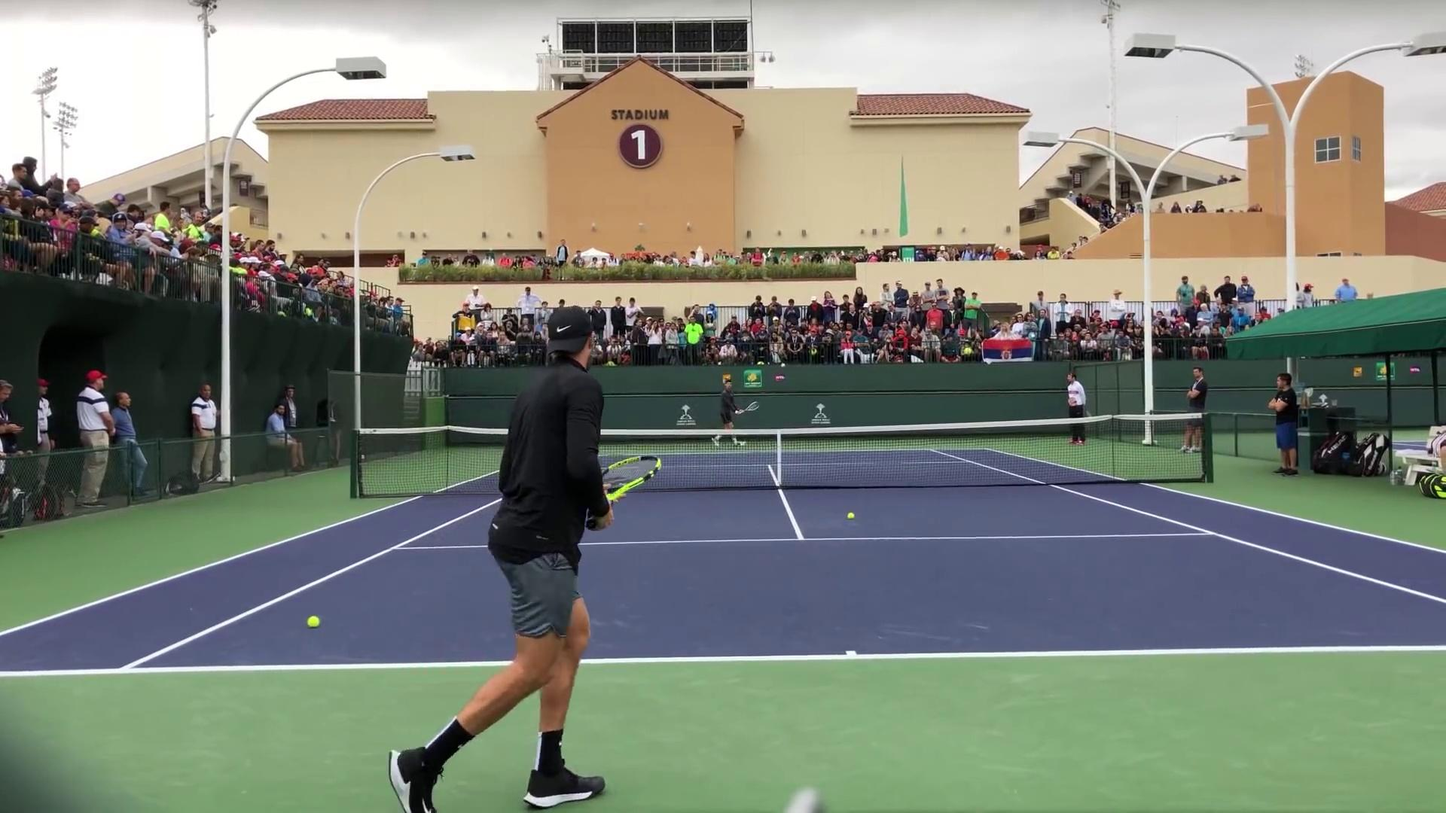ball: (306, 616, 320, 628), (779, 361, 786, 370), (847, 512, 855, 519)
